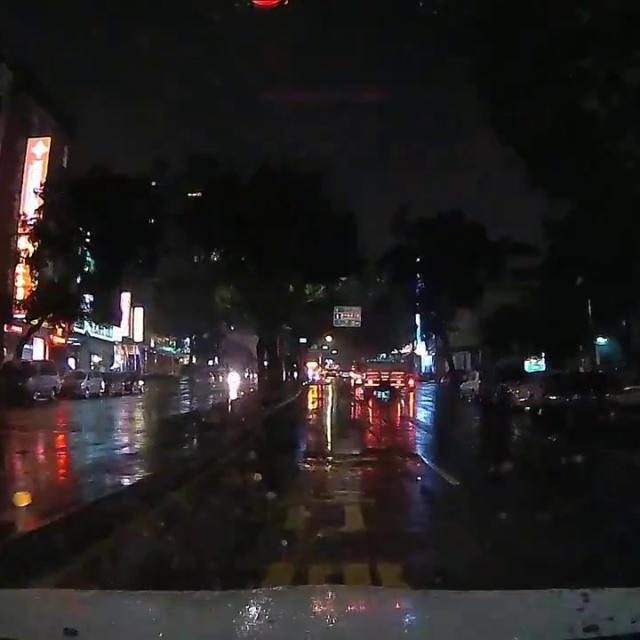Car: (0, 355, 61, 402), (513, 371, 570, 411), (63, 365, 106, 399), (456, 366, 496, 401), (107, 368, 145, 395)
